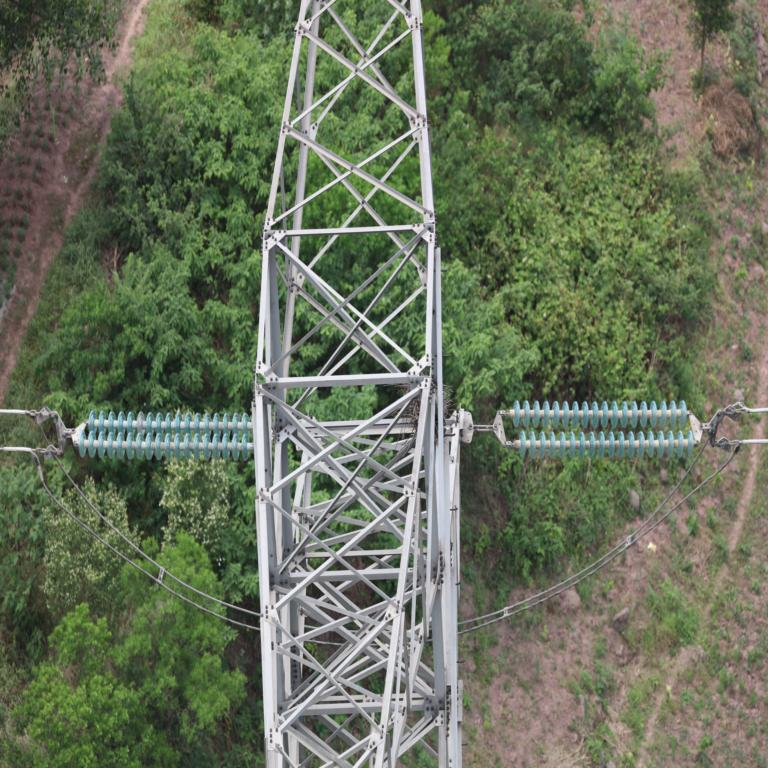nest: (407, 380, 447, 432)
